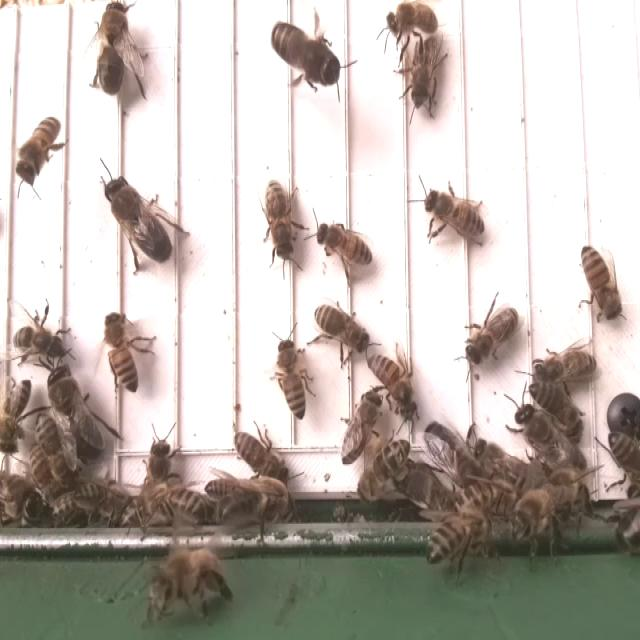Drone: (104, 172, 175, 268), (47, 362, 107, 465), (268, 16, 344, 91), (514, 403, 587, 481), (420, 417, 483, 490)
Worker: (421, 188, 489, 240), (356, 437, 413, 497), (105, 307, 142, 399), (529, 342, 598, 391), (365, 353, 416, 419), (464, 306, 523, 363), (339, 389, 381, 469), (231, 429, 292, 484), (581, 241, 621, 323), (529, 377, 586, 434), (18, 113, 62, 183), (274, 334, 309, 422), (311, 300, 370, 352), (314, 220, 375, 268), (0, 376, 34, 457), (35, 410, 71, 486), (263, 176, 294, 263), (10, 321, 72, 364), (143, 488, 211, 525), (409, 34, 441, 111)
